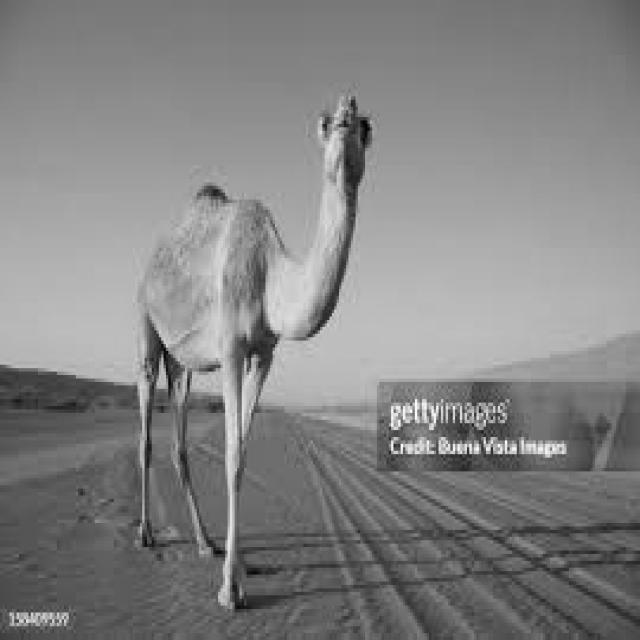Camel: (130, 89, 372, 609)
